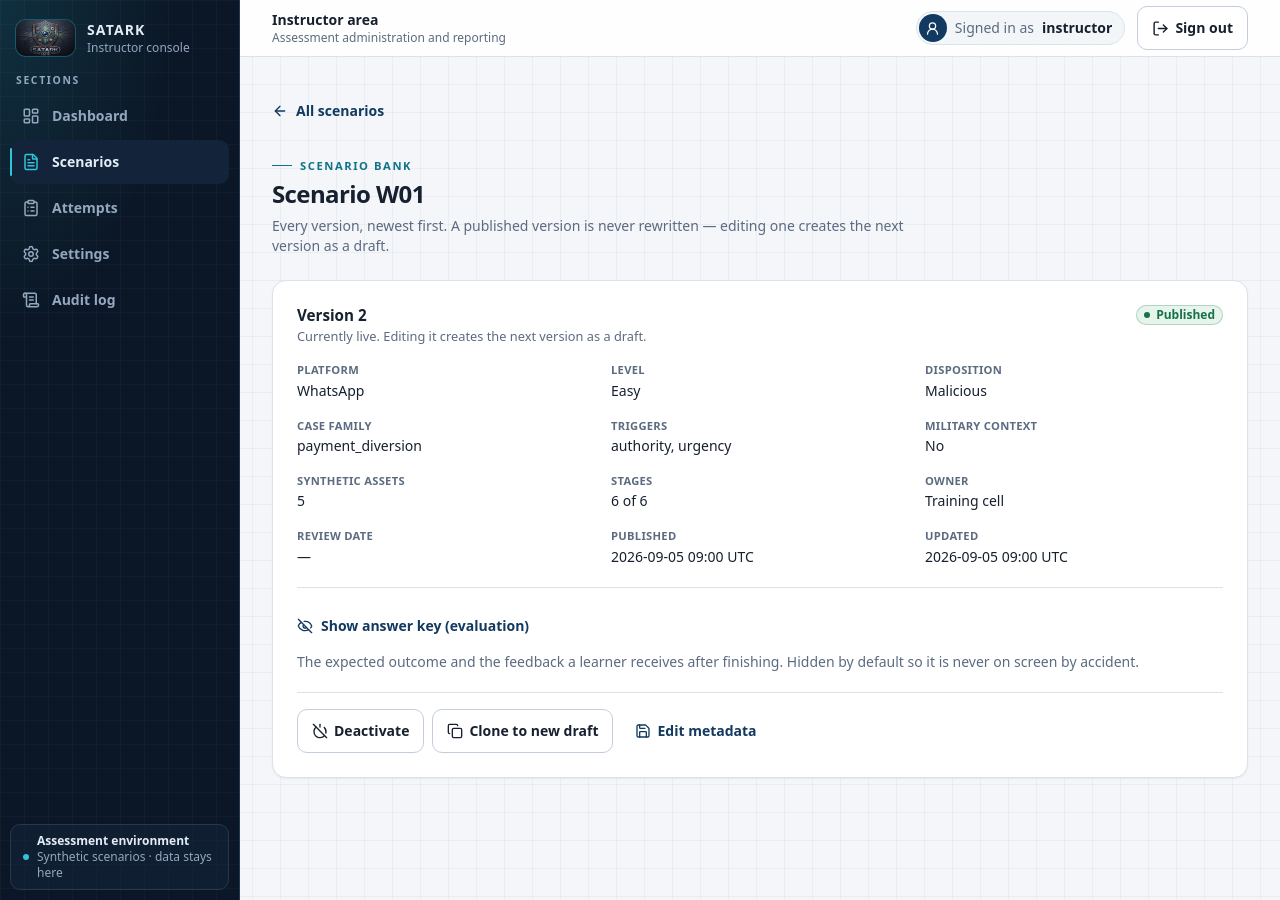
the scenario manager › says when an edit branched a new version instead of rewriting a published one
Expected: the heading "Version 2" is shown, [297,305,367,325]
Step 1. Click the button "Edit metadata" → click(696, 731), box [622,709,771,753]
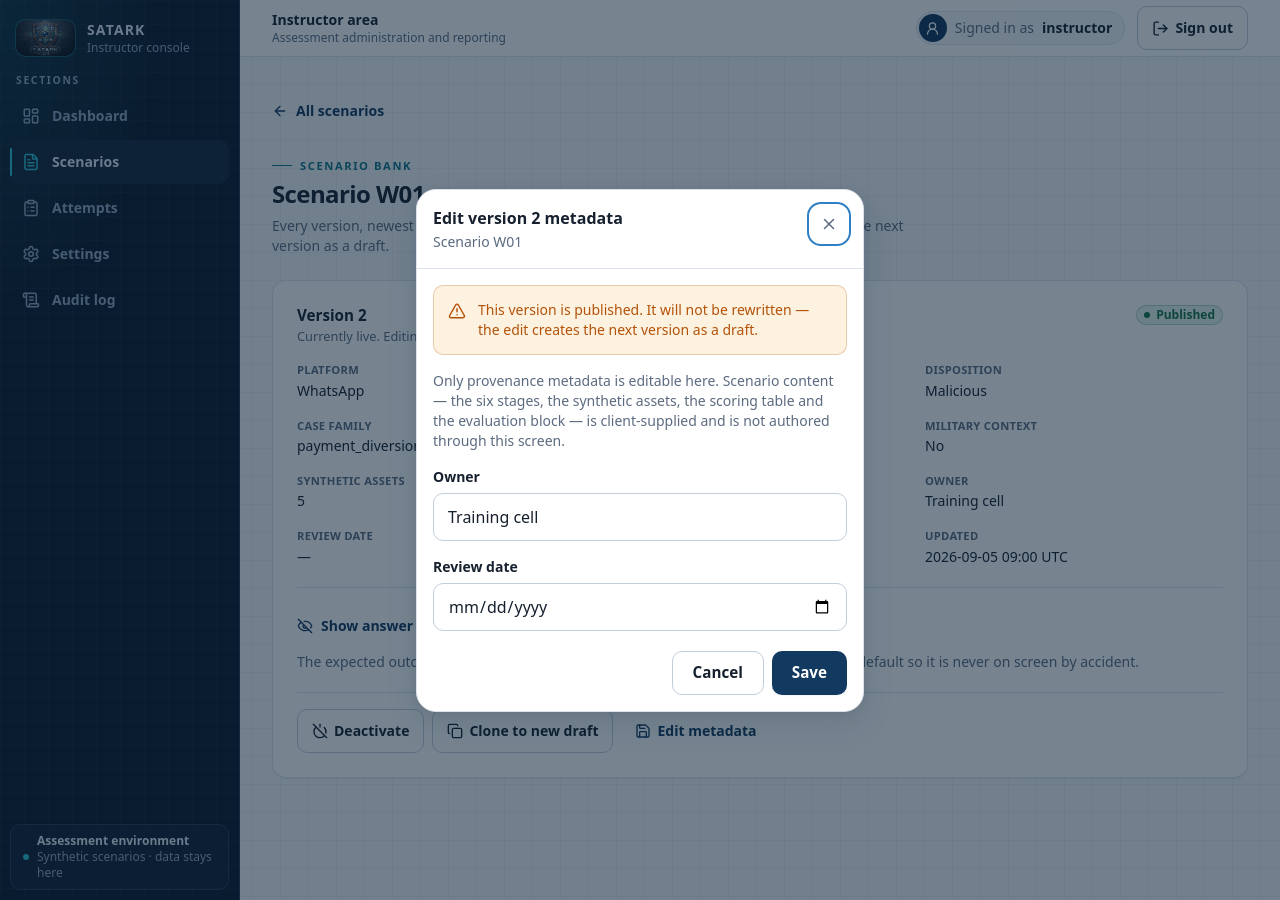
Expected: the text "will not be rewritten" is shown, [478,300,809,338]
The field is pre-filled from the version, so it is cleared before typing.
Step 2. Replace the text in the field labelled "Owner" with "New owner" → (640, 516), box [433,492,847,540]
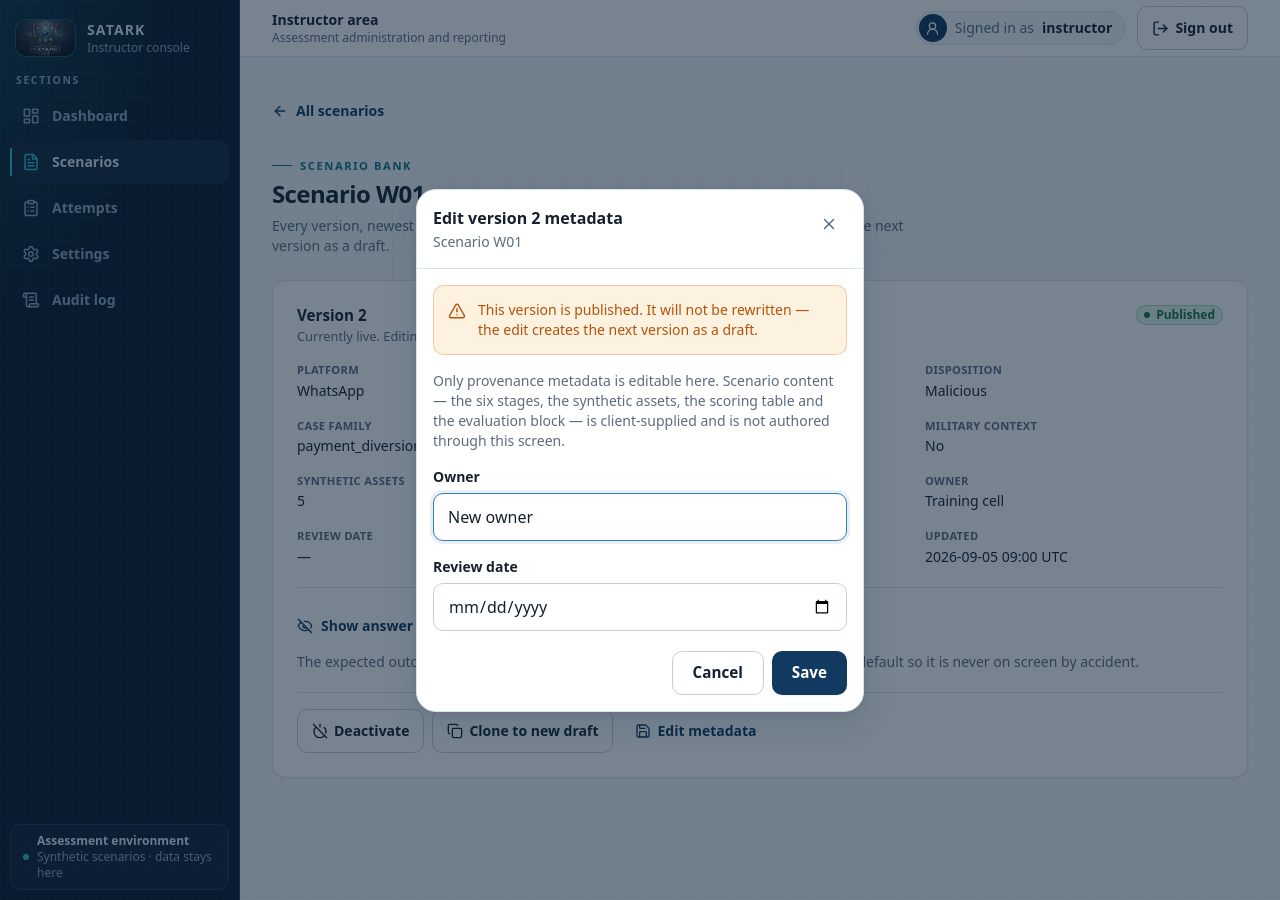
Step 3. Click the button "Save" → click(809, 672), box [772,650,847,694]
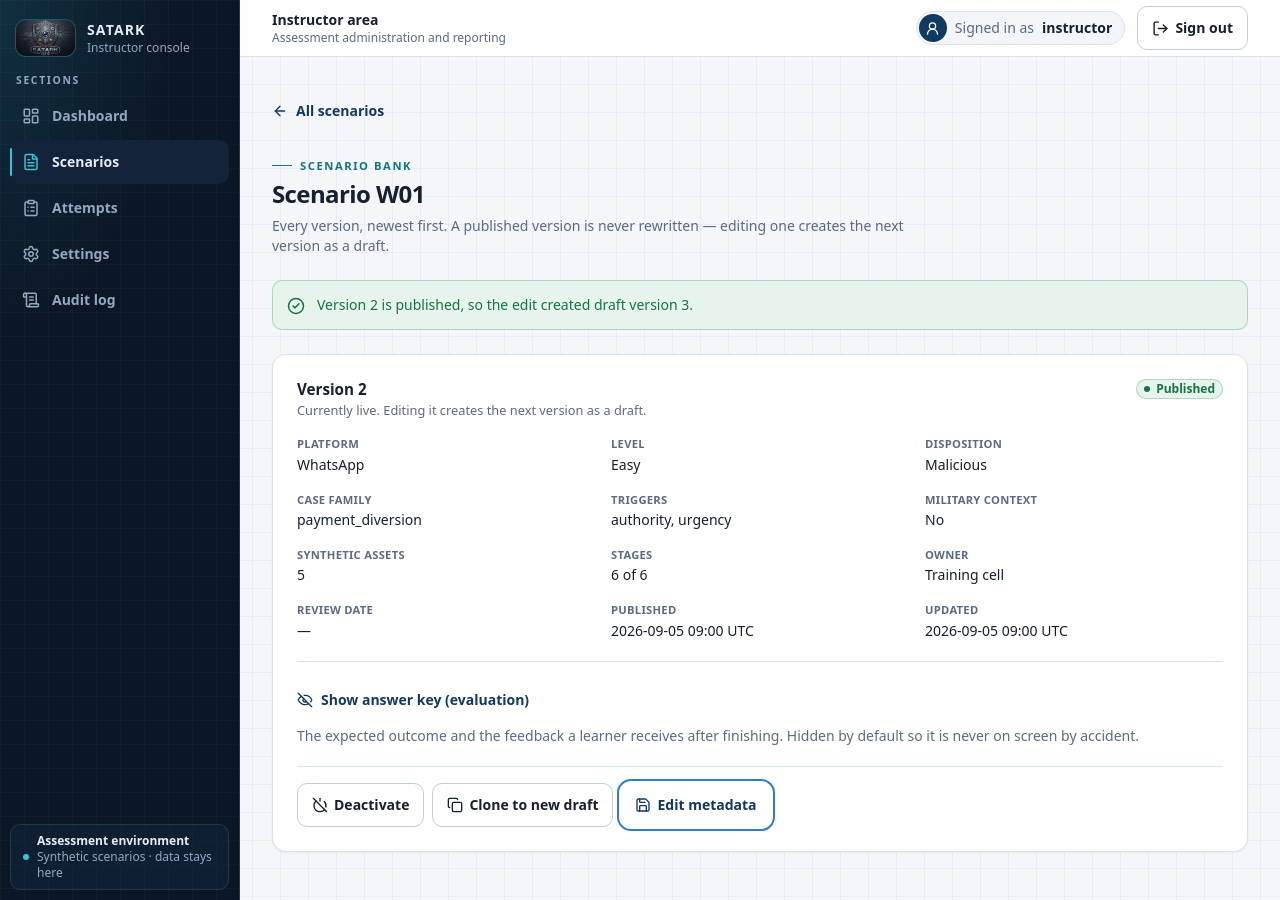
Expected: the text "Version 2 is published, so the edit created draft version 3." is shown, [317,295,693,315]
